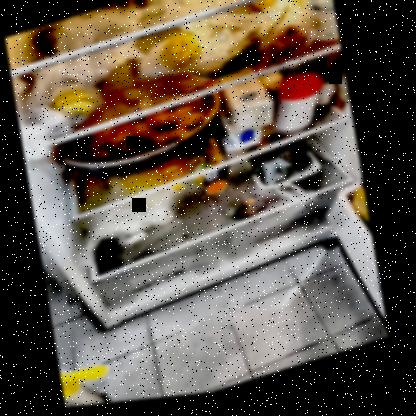broccoli: (253, 145, 320, 194)
carrot: (191, 0, 319, 11)
green_chillies: (188, 32, 266, 87)
lemon: (48, 77, 103, 129), (153, 28, 209, 78)
milk: (217, 81, 281, 157)
tomato: (260, 25, 315, 70)
yoghurt: (301, 0, 341, 53)
